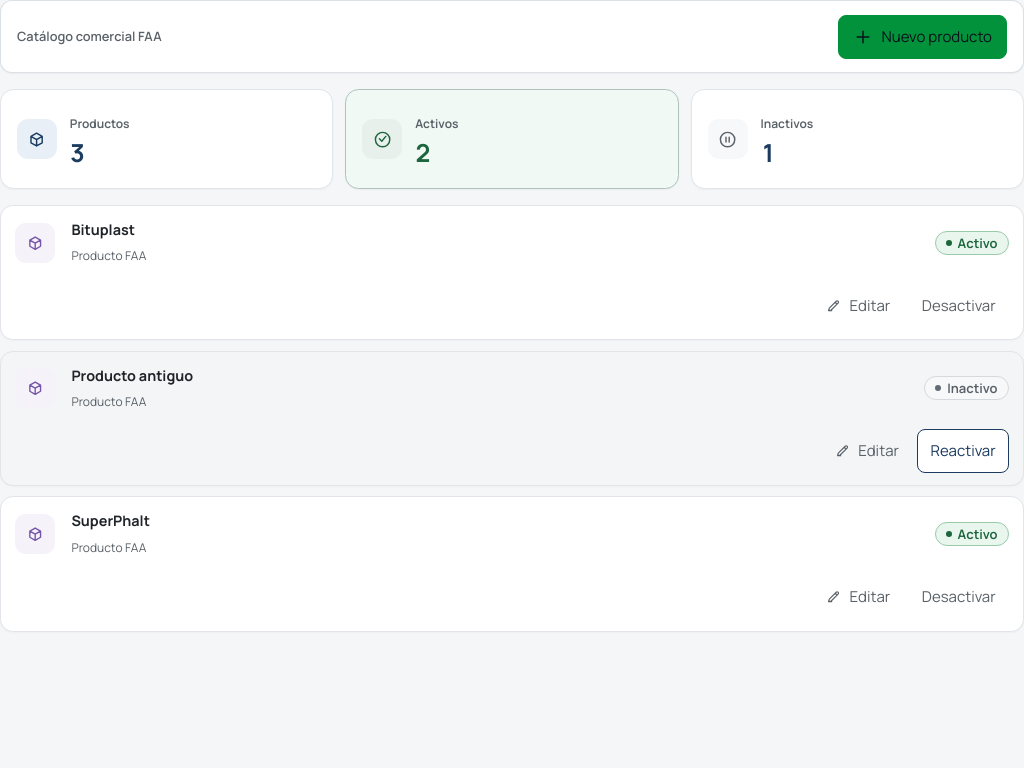
Scenario: ProductsPage › confirms deactivation and preserves the product as inactive
Expected: the text "SuperPhalt" is shown, [71,511,150,530]
Click the button with aria-label "Desactivar SuperPhalt".
click(959, 596)  # box [909,574,1009,618]
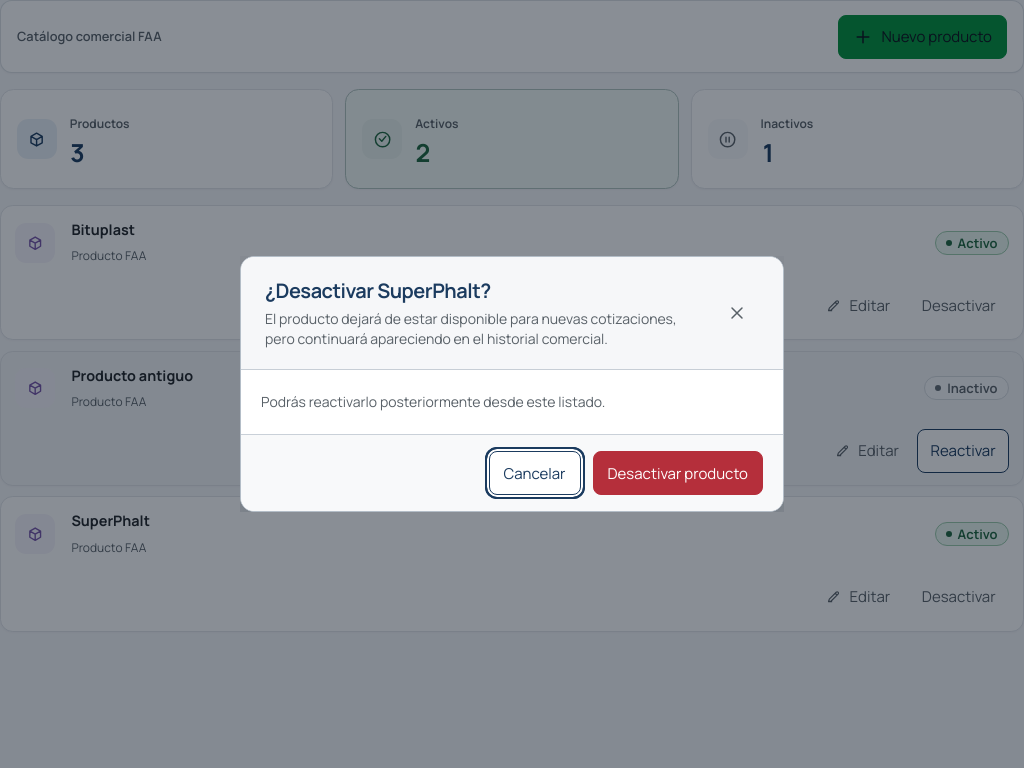
Expected: the text "historial comercial" is shown, [265,309,677,348]
Click the button "Desactivar producto".
click(678, 473)  # box [592,451,763,495]
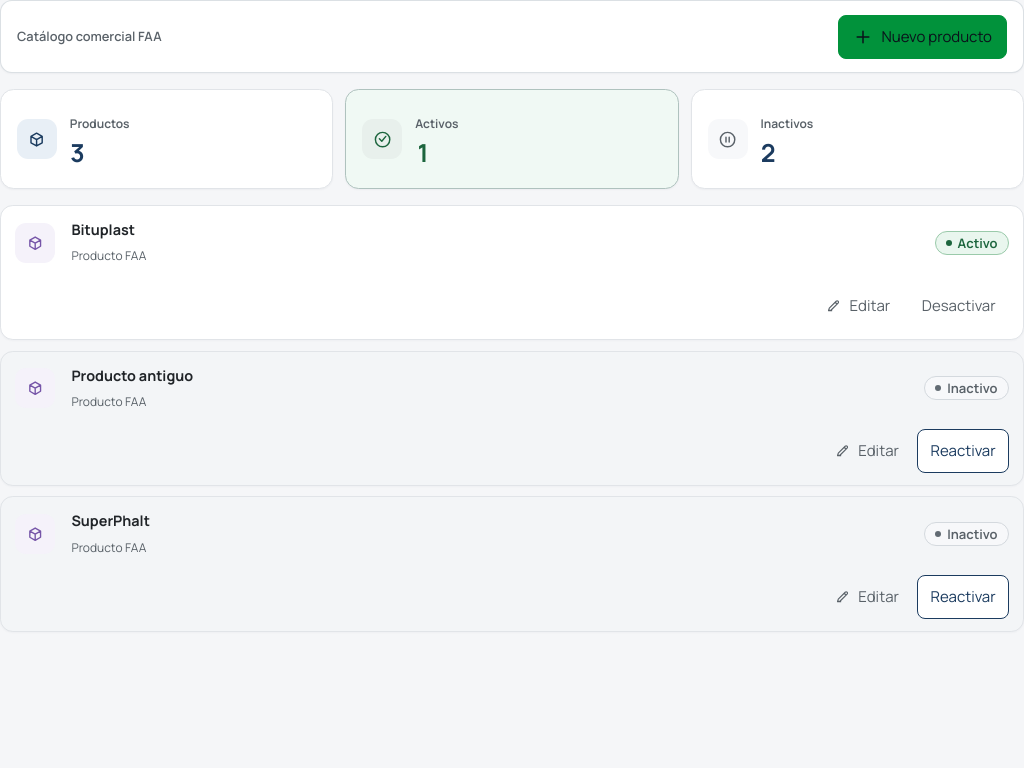
Expected: the dialog is gone
